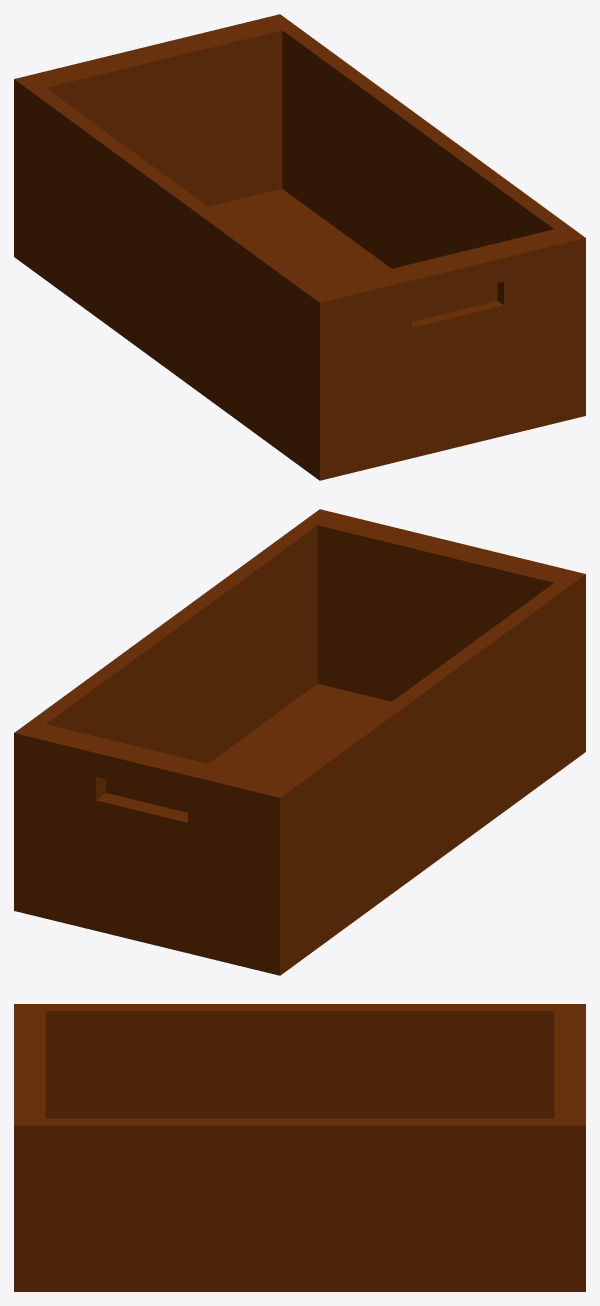
File: cajapelota.fbx
The picture shows the model from 3 angles, top to bottom: view 1: azimuth 30°, elevation 25°; view 2: azimuth 150°, elevation 25°; view 3: azimuth 270°, elevation 25°; orthographic projection. The views are drawn at different scales.
Parts seen in each view (by area): view 1: Cube; view 2: Cube; view 3: Cube.
Part boxes in pixels (x1=…): Cube: x1=14, y1=14, x2=585, y2=480; Cube: x1=14, y1=509, x2=585, y2=975; Cube: x1=14, y1=1004, x2=585, y2=1291.
Size of the model in its own units: 200 by 128 by 398.
